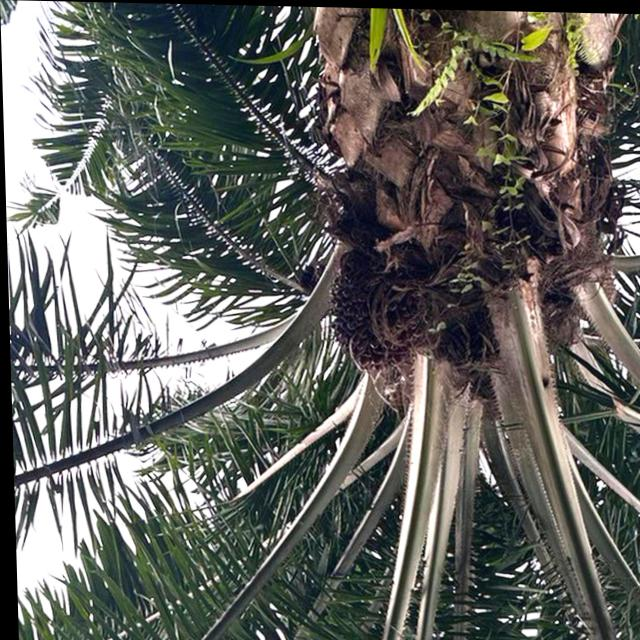ripe: (316, 249, 444, 390)
